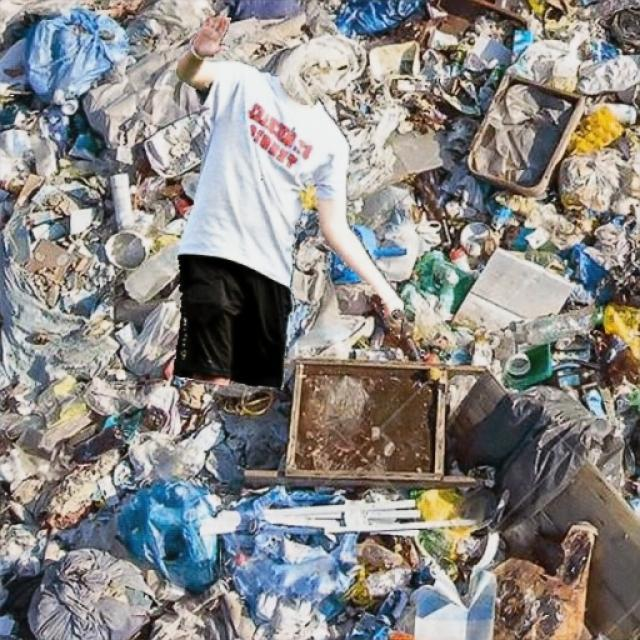Person in Rubble: (172, 18, 406, 388)
